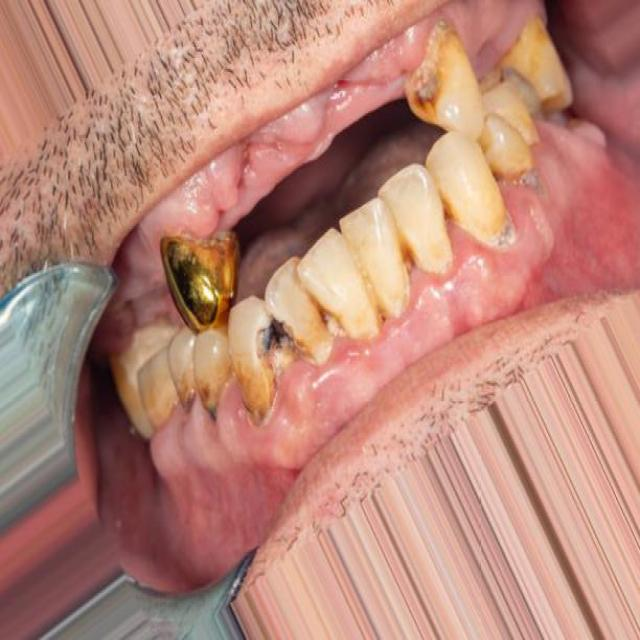caries: (402, 31, 490, 122), (245, 309, 322, 399), (502, 21, 570, 105), (388, 225, 427, 299), (193, 374, 237, 433)
